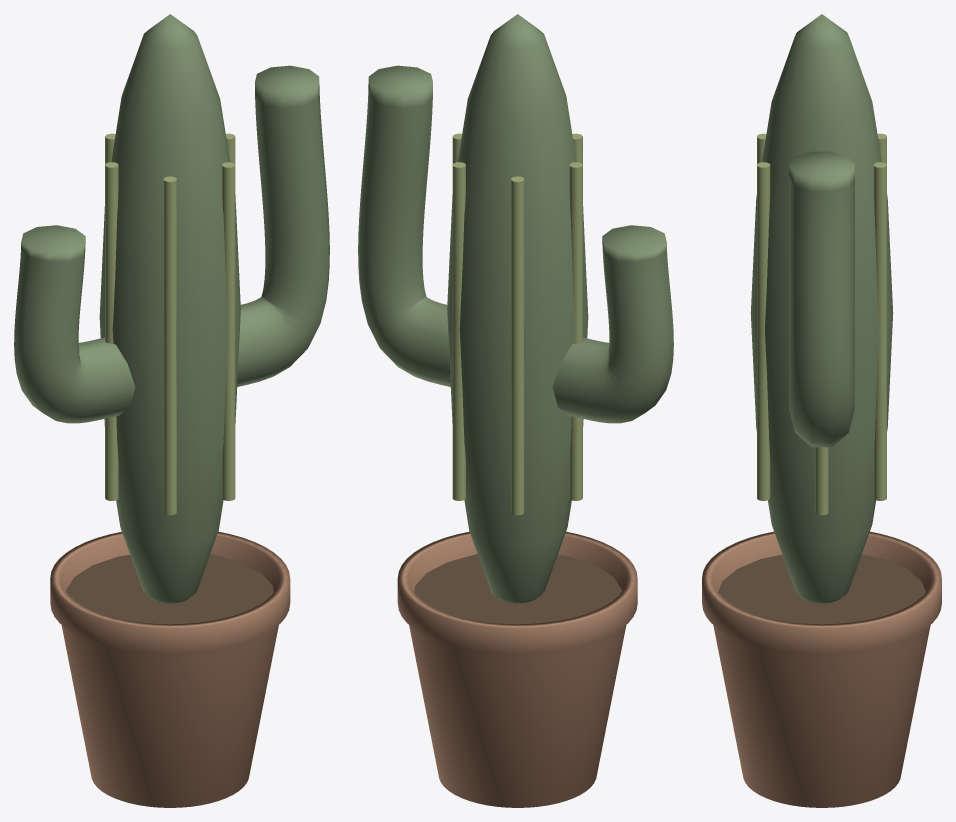
Rendered from cactus.glb.
The picture shows the model from 3 angles, left to right: view 1: azimuth 30°, elevation 25°; view 2: azimuth 150°, elevation 25°; view 3: azimuth 270°, elevation 25°; orthographic projection.
Visible parts, largest first — view 1: ribbed-cactus-trunk, planter-hollow-vessel, upturned-arm-1, upturned-arm--1, planter-contained-soil, longitudinal-rib-2, longitudinal-rib-1, longitudinal-rib-3; view 2: ribbed-cactus-trunk, planter-hollow-vessel, upturned-arm-1, upturned-arm--1, planter-contained-soil, longitudinal-rib-4, longitudinal-rib-5, longitudinal-rib-3; view 3: planter-hollow-vessel, ribbed-cactus-trunk, upturned-arm-1, planter-contained-soil, longitudinal-rib-1, longitudinal-rib-5, longitudinal-rib-0.
Part boxes in pixels (bbox=[...]): ribbed-cactus-trunk: bbox=[99, 14, 240, 603]; planter-hollow-vessel: bbox=[50, 531, 290, 807]; upturned-arm-1: bbox=[237, 65, 329, 386]; upturned-arm--1: bbox=[14, 225, 135, 423]; planter-contained-soil: bbox=[66, 554, 273, 624]; longitudinal-rib-2: bbox=[163, 176, 176, 515]; longitudinal-rib-1: bbox=[222, 162, 235, 500]; longitudinal-rib-3: bbox=[105, 162, 118, 500]; ribbed-cactus-trunk: bbox=[447, 14, 588, 603]; planter-hollow-vessel: bbox=[397, 531, 637, 807]; upturned-arm-1: bbox=[358, 65, 450, 386]; upturned-arm--1: bbox=[552, 225, 673, 423]; planter-contained-soil: bbox=[414, 554, 621, 624]; longitudinal-rib-4: bbox=[511, 176, 524, 515]; longitudinal-rib-5: bbox=[452, 162, 465, 500]; longitudinal-rib-3: bbox=[569, 162, 582, 500]; planter-hollow-vessel: bbox=[702, 531, 941, 807]; ribbed-cactus-trunk: bbox=[750, 14, 893, 603]; upturned-arm-1: bbox=[789, 151, 854, 447]; planter-contained-soil: bbox=[718, 554, 925, 624]; longitudinal-rib-1: bbox=[757, 162, 770, 500]; longitudinal-rib-5: bbox=[873, 162, 886, 500]; longitudinal-rib-0: bbox=[815, 447, 828, 515].
Bounding box in the file's own units: 0.4708 × 1.12 × 0.32.
